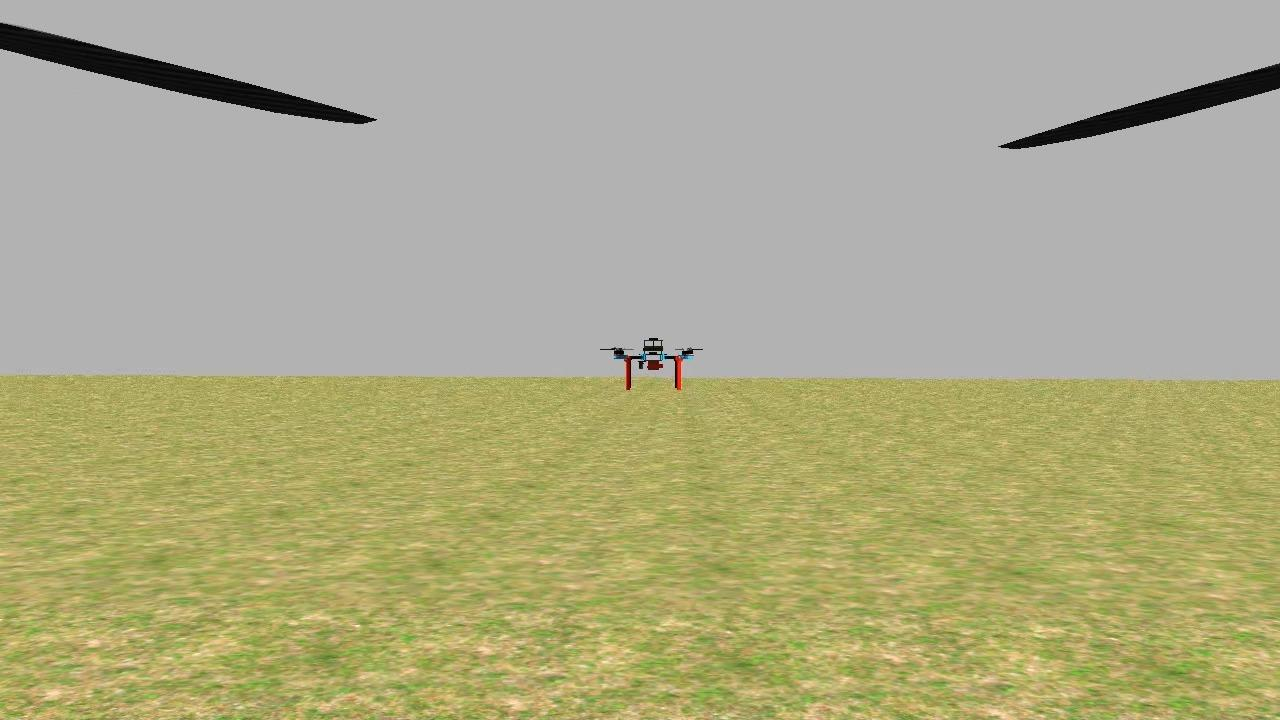UAV: (593, 330, 714, 391)
